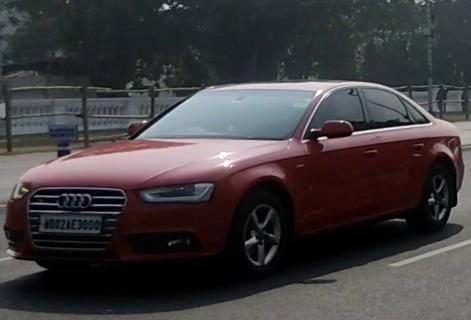Car: (4, 71, 466, 284)
